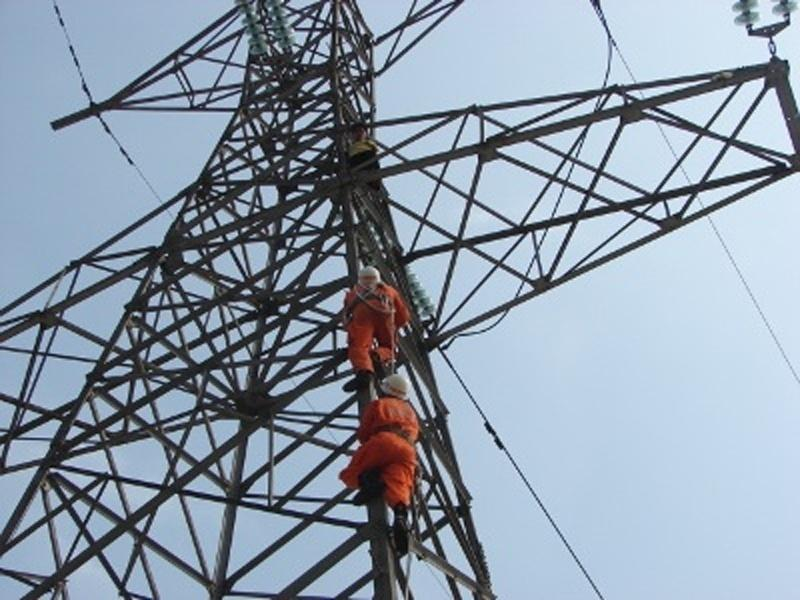power_tower: (48, 10, 686, 566)
